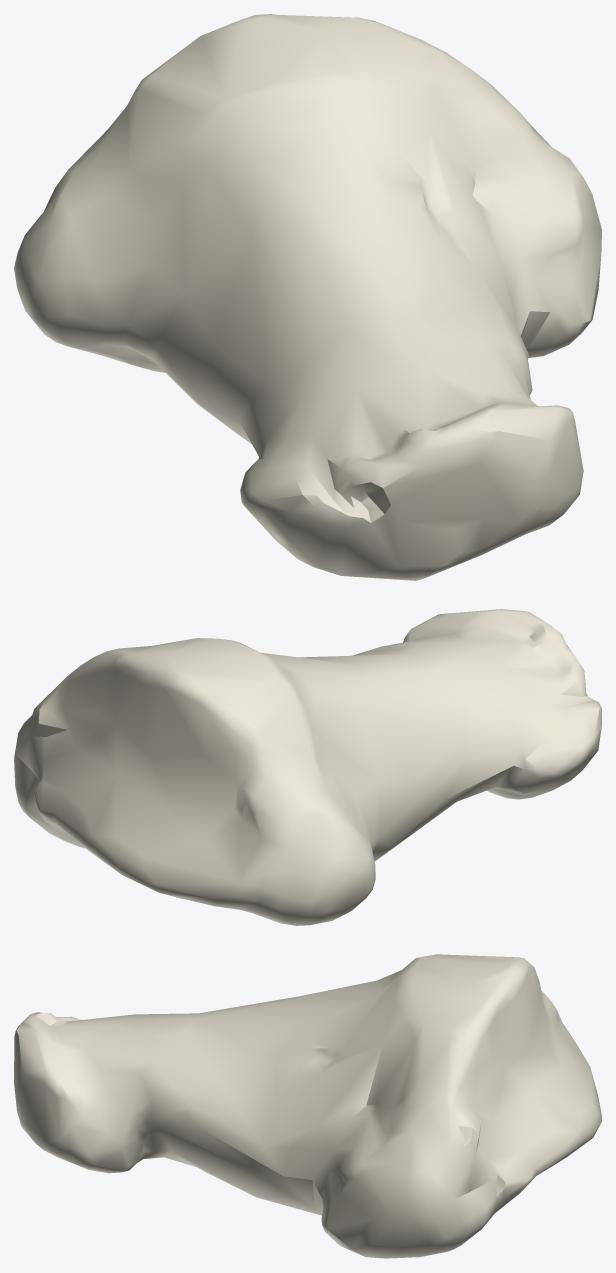
File: fma32650.glb
3 renders of one model, top to bottom at view 1: azimuth 30°, elevation 25°; view 2: azimuth 150°, elevation 25°; view 3: azimuth 270°, elevation 25°, orthographic. The views are drawn at different scales.
Parts seen in each view (by area): view 1: FMA32650; view 2: FMA32650; view 3: FMA32650.
Boxes of the visible parts, left/top/right/bottom form: FMA32650: left=14, top=14, right=601, bottom=580; FMA32650: left=14, top=609, right=601, bottom=925; FMA32650: left=14, top=954, right=601, bottom=1258.
Bounding box in the file's own units: 0.0201 × 0.0112 × 0.0261.
